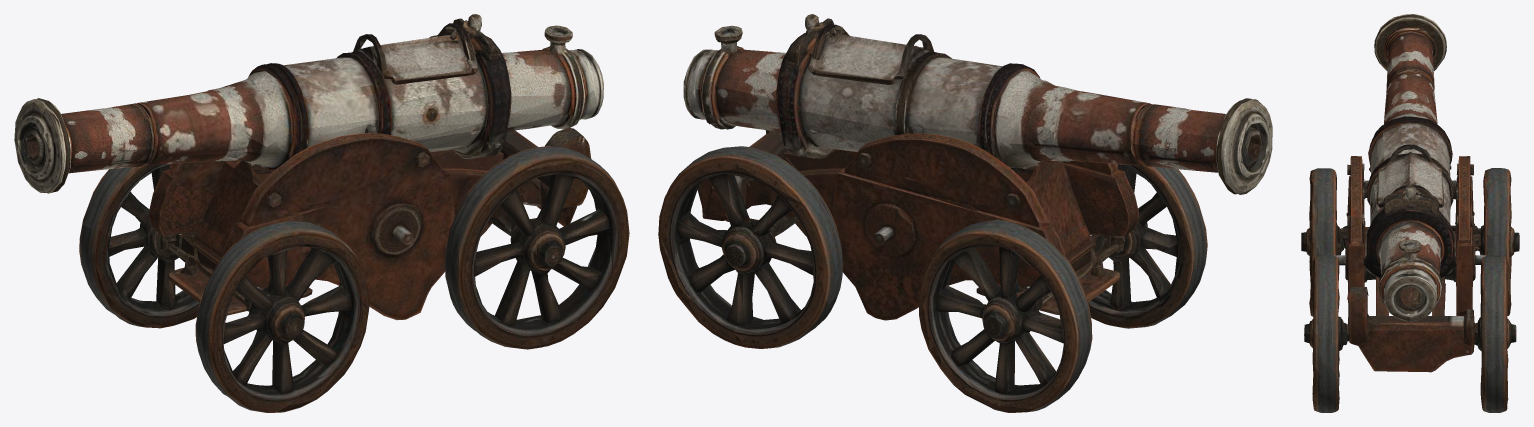
Rendered from canhao_circo.glb.
3 renders of one model, left to right at view 1: azimuth 30°, elevation 25°; view 2: azimuth 150°, elevation 25°; view 3: azimuth 270°, elevation 25°, orthographic. The views are drawn at different scales.
Size of the model in its own units: 1.9 by 0.9962 by 0.8526.
1 material, 1 textured.
